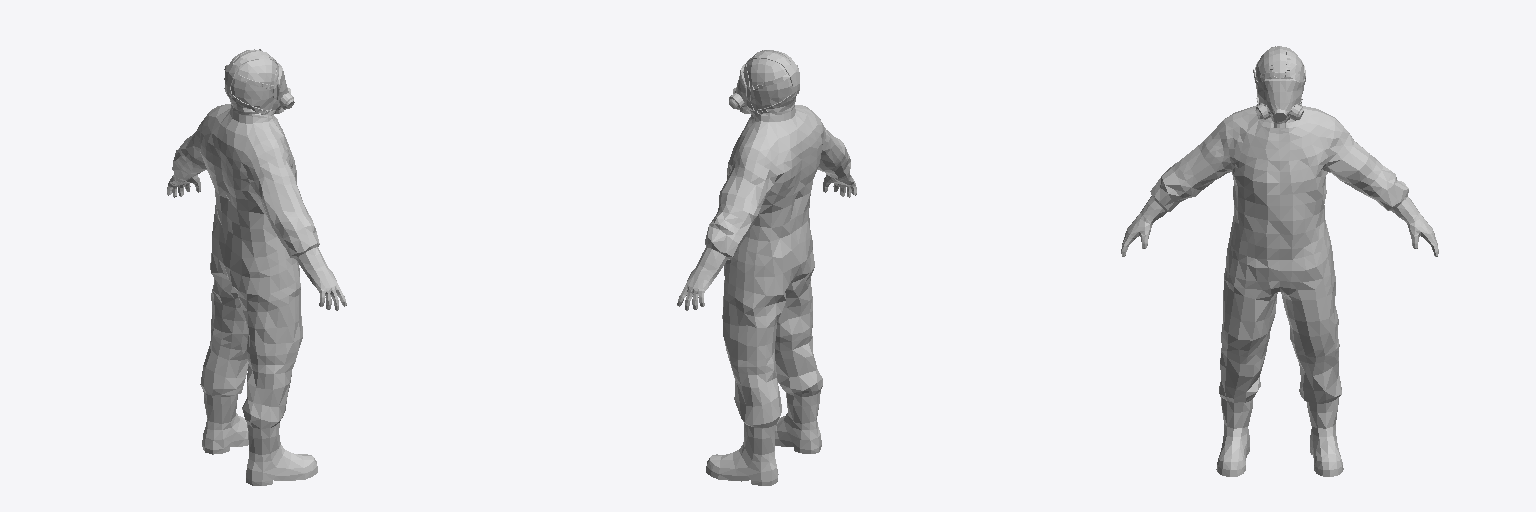
File: bio suit.obj
3 renders of one model, left to right at view 1: azimuth 30°, elevation 25°; view 2: azimuth 150°, elevation 25°; view 3: azimuth 270°, elevation 25°, orthographic.
Visible parts, largest first — view 1: Mesh_0123, Mesh_0122, Mesh_0124; view 2: Mesh_0123, Mesh_0122, Mesh_0124; view 3: Mesh_0123, Mesh_0122, Mesh_0124.
Boxes of the visible parts, x1,y1,x2,y2 form: Mesh_0123: [171, 132, 317, 485]; Mesh_0122: [167, 50, 346, 310]; Mesh_0124: [224, 49, 294, 115]; Mesh_0123: [686, 166, 822, 485]; Mesh_0122: [677, 51, 856, 310]; Mesh_0124: [729, 50, 799, 114]; Mesh_0123: [1216, 142, 1432, 476]; Mesh_0122: [1121, 46, 1438, 256]; Mesh_0124: [1253, 46, 1305, 127].
Bounding box in the file's own units: 60.94 × 323 × 227.